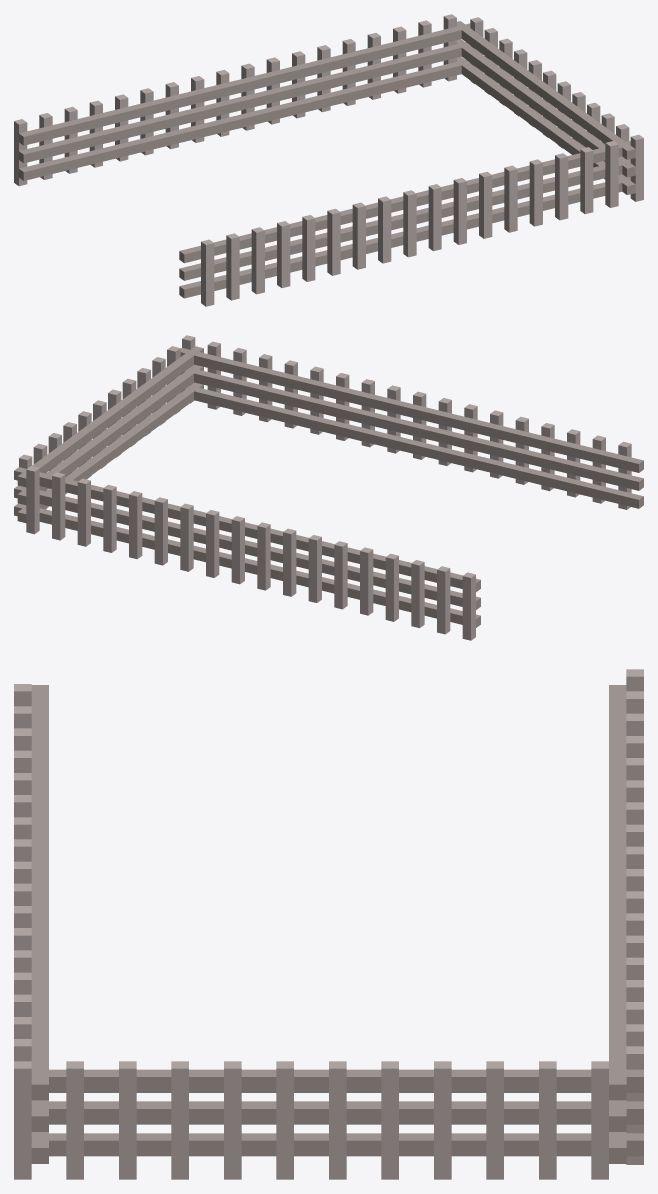
The model's file is granjafinal_valla3.obj.
The picture shows the model from 3 angles, top to bottom: view 1: azimuth 30°, elevation 25°; view 2: azimuth 150°, elevation 25°; view 3: azimuth 270°, elevation 25°; orthographic projection. The views are drawn at different scales.
Size of the model in its own units: 5.4 by 0.7 by 3.6.
1 material, 1 textured.
